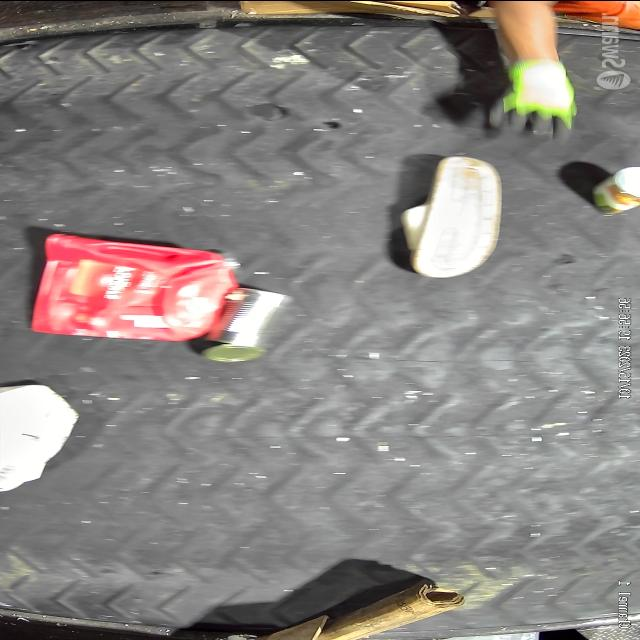can: (202, 292, 290, 364), (588, 156, 640, 216)
milk_jug: (0, 380, 81, 494)
non_white_jug: (25, 230, 253, 342)
